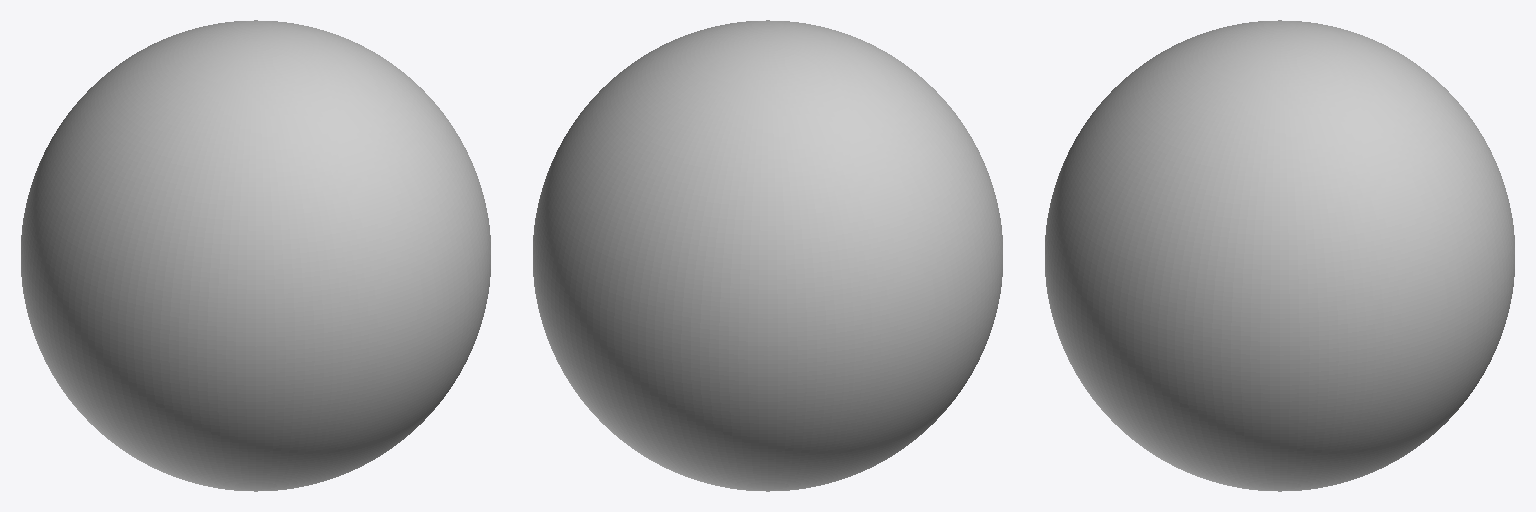
The model's file is bloodorbNEWNEW.obj.
3 views of the same model, side by side, from view 1: azimuth 30°, elevation 25°; view 2: azimuth 150°, elevation 25°; view 3: azimuth 270°, elevation 25° (orthographic).
Parts seen in each view (by area): view 1: pSphere1; view 2: pSphere1; view 3: pSphere1.
Part boxes in pixels (bbox=[...]): pSphere1: bbox=[21, 20, 490, 491]; pSphere1: bbox=[533, 20, 1002, 491]; pSphere1: bbox=[1045, 20, 1514, 491].
Size of the model in its own units: 2 by 2 by 2.